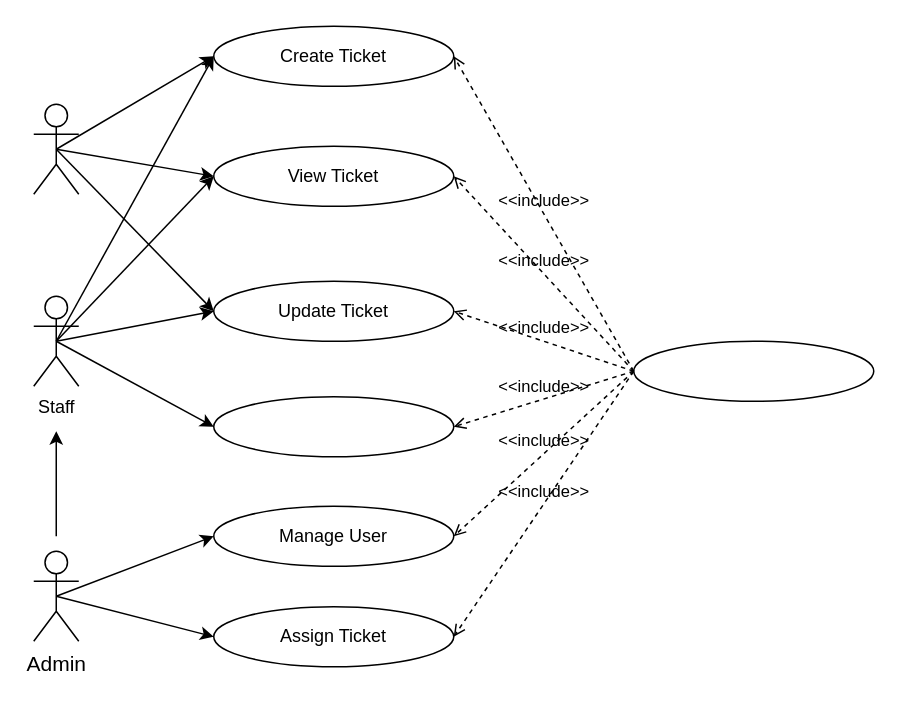
This 900x704 diagram has some shape labels left out. Here are the shapes that lost their labels. From the top down, the box of each, then its label:
(32, 103, 79, 194): User
(632, 340, 874, 401): Login
(212, 395, 454, 457): Create Reports
